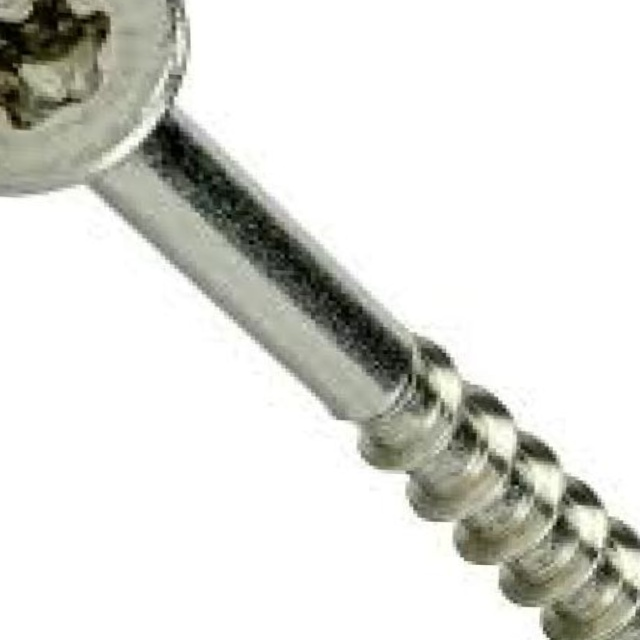torx: (0, 0, 194, 210)
